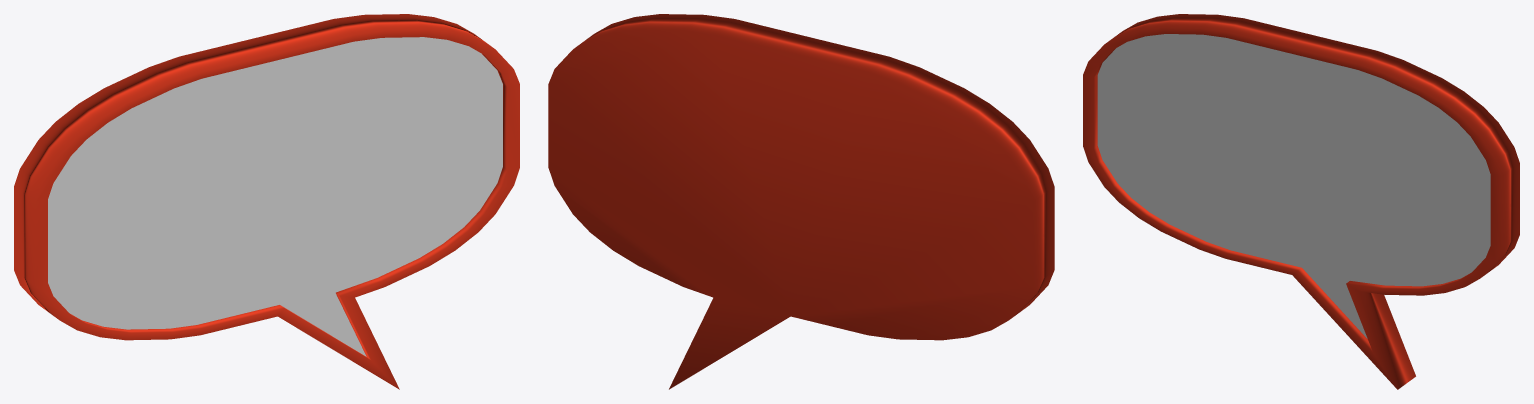
The model's file is speechbubble_shente.dae.
3 renders of one model, left to right at view 1: azimuth 30°, elevation 25°; view 2: azimuth 150°, elevation 25°; view 3: azimuth 330°, elevation 25°, orthographic. The views are drawn at different scales.
Parts seen in each view (by area): view 1: Cube_001, Cube; view 2: Cube; view 3: Cube_001, Cube.
Part boxes in pixels (x1,y1,x2,y2): Cube_001: [48, 37, 502, 356]; Cube: [14, 14, 519, 389]; Cube: [548, 14, 1054, 389]; Cube_001: [1097, 34, 1490, 338]; Cube: [1083, 14, 1519, 389].
Bounding box in the file's own units: 3.79 × 0.2921 × 2.74.
